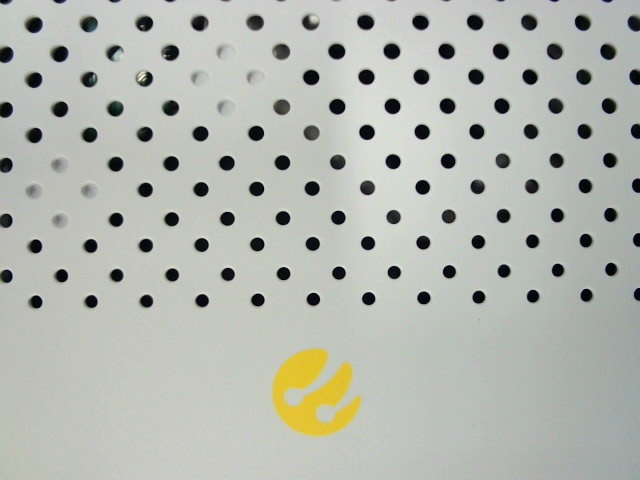AV_H3600Yellow: (269, 342, 368, 439)
